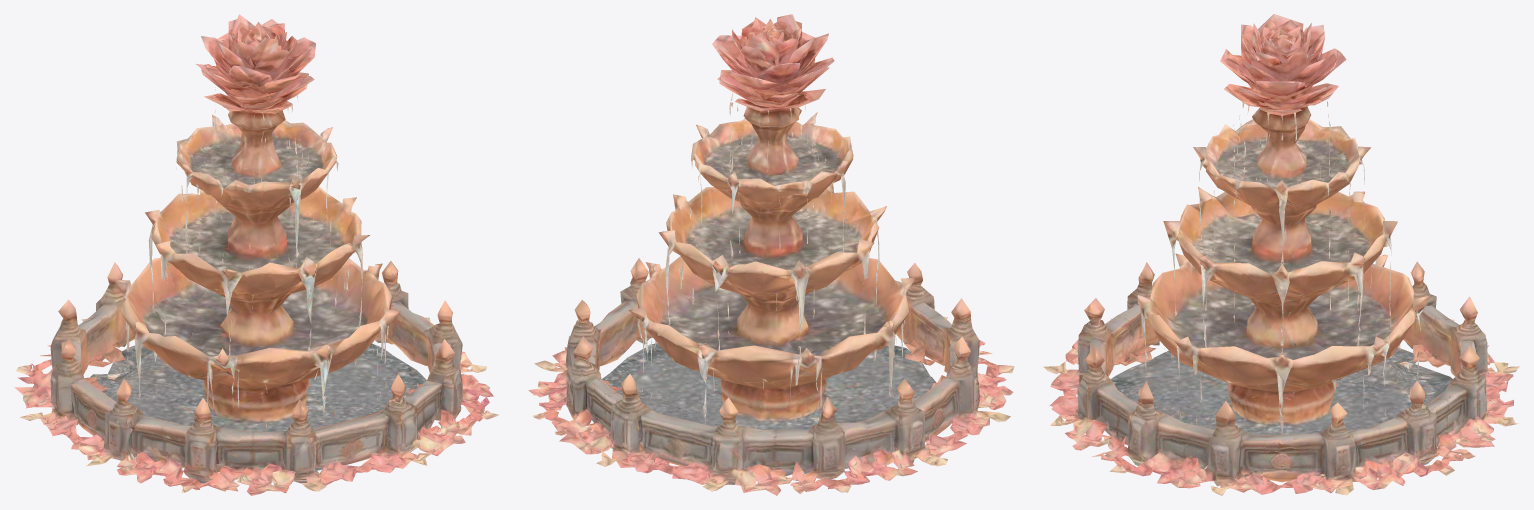
The model's file is rose-fountain.glb.
3 renders of one model, left to right at view 1: azimuth 30°, elevation 25°; view 2: azimuth 150°, elevation 25°; view 3: azimuth 270°, elevation 25°, orthographic.
Parts seen in each view (by area): view 1: Mesh_0; view 2: Mesh_0; view 3: Mesh_0.
Part boxes in pixels (box(x1,y1,x2,y2)): Mesh_0: box(14, 14, 498, 495); Mesh_0: box(528, 14, 1014, 495); Mesh_0: box(1043, 14, 1519, 495).
Size of the model in its own units: 2.83 by 2.5 by 2.82.
1 material, 1 textured.
